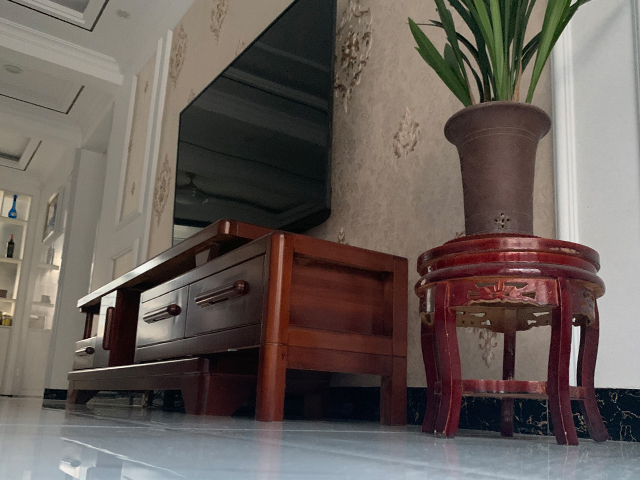cabinet: (67, 216, 409, 427)
stool: (413, 234, 610, 447)
